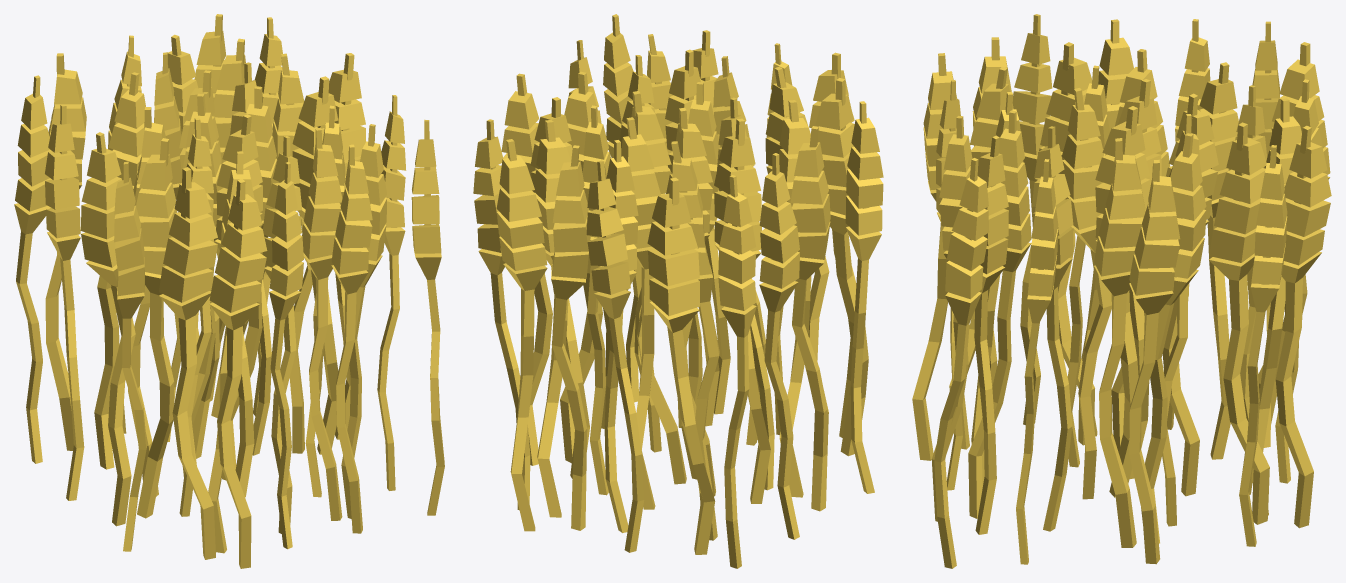
The model's file is Wheat-Full.fbx.
3 views of the same model, side by side, from view 1: azimuth 30°, elevation 25°; view 2: azimuth 150°, elevation 25°; view 3: azimuth 270°, elevation 25° (orthographic). The views are drawn at different scales.
Parts seen in each view (by area): view 1: Wheat; view 2: Wheat; view 3: Wheat.
Boxes of the visible parts, x1=… form: Wheat: x1=14, y1=14, x2=444, y2=568; Wheat: x1=473, y1=14, x2=883, y2=568; Wheat: x1=912, y1=14, x2=1331, y2=568.
Bounding box in the file's own units: 118 × 143 × 131.
